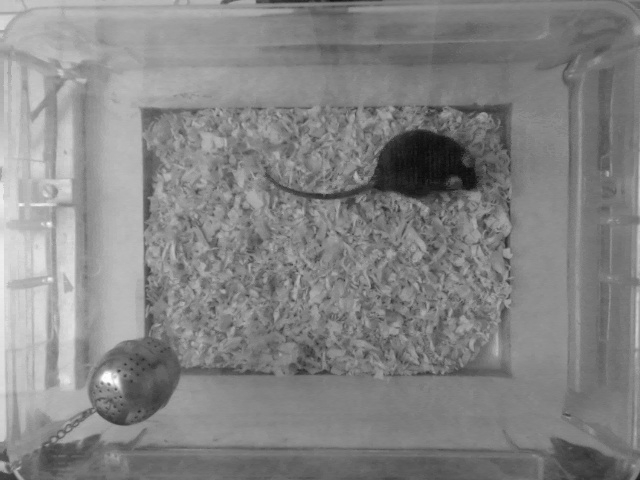mice: (260, 128, 484, 197)
